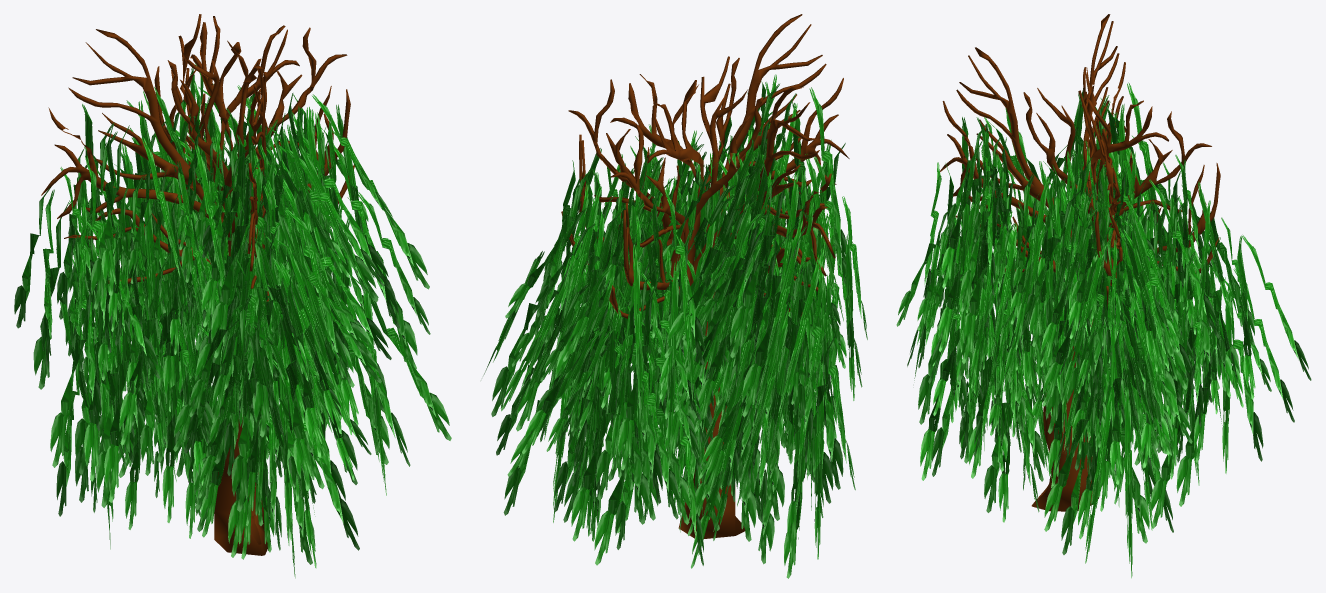
The model's file is tree9.fbx.
3 views of the same model, side by side, from view 1: azimuth 30°, elevation 25°; view 2: azimuth 150°, elevation 25°; view 3: azimuth 270°, elevation 25° (orthographic). The views are drawn at different scales.
Visible parts, largest first — view 1: c090c787-1d18-485c-aed2-695b9deaaf12|d2bc2ccb-dd17-4b76-b26a (×88), c090c787-1d18-485c-aed2-695b9deaaf12; view 2: c090c787-1d18-485c-aed2-695b9deaaf12|d2bc2ccb-dd17-4b76-b26a (×97), c090c787-1d18-485c-aed2-695b9deaaf12; view 3: c090c787-1d18-485c-aed2-695b9deaaf12|d2bc2ccb-dd17-4b76-b26a (×78), c090c787-1d18-485c-aed2-695b9deaaf12.
Boxes of the visible parts, left/top/right/bottom form: c090c787-1d18-485c-aed2-695b9deaaf12|d2bc2ccb-dd17-4b76-b26a (×88): left=14, top=94, right=451, bottom=568; c090c787-1d18-485c-aed2-695b9deaaf12: left=41, top=14, right=354, bottom=555; c090c787-1d18-485c-aed2-695b9deaaf12|d2bc2ccb-dd17-4b76-b26a (×97): left=483, top=87, right=867, bottom=578; c090c787-1d18-485c-aed2-695b9deaaf12: left=561, top=14, right=849, bottom=538; c090c787-1d18-485c-aed2-695b9deaaf12|d2bc2ccb-dd17-4b76-b26a (×78): left=896, top=117, right=1311, bottom=578; c090c787-1d18-485c-aed2-695b9deaaf12: left=940, top=14, right=1220, bottom=511.
Size of the model in its own units: 72.91 by 93.53 by 78.77.
2 materials, 2 textured.
